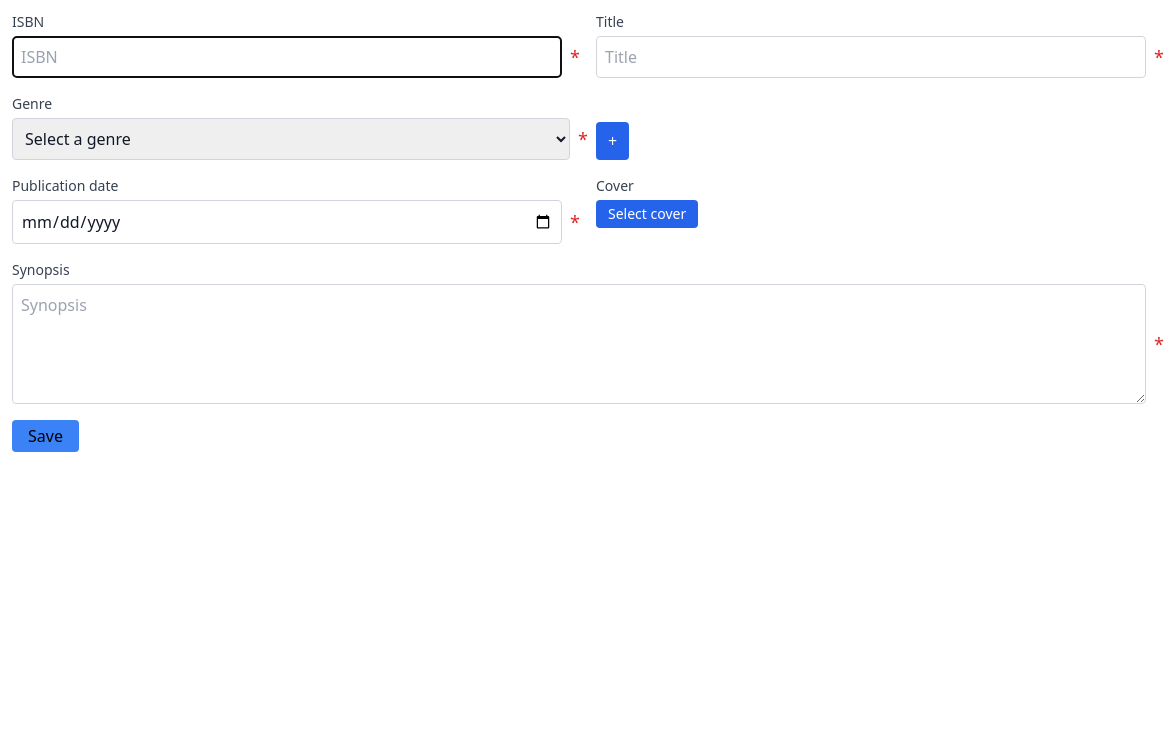
Test: BookForm › should clear the form fields after successful submission
# Fill form
In the field with placeholder "ISBN": (287, 57) x1=12 y1=36 x2=562 y2=78, type "1234567890"
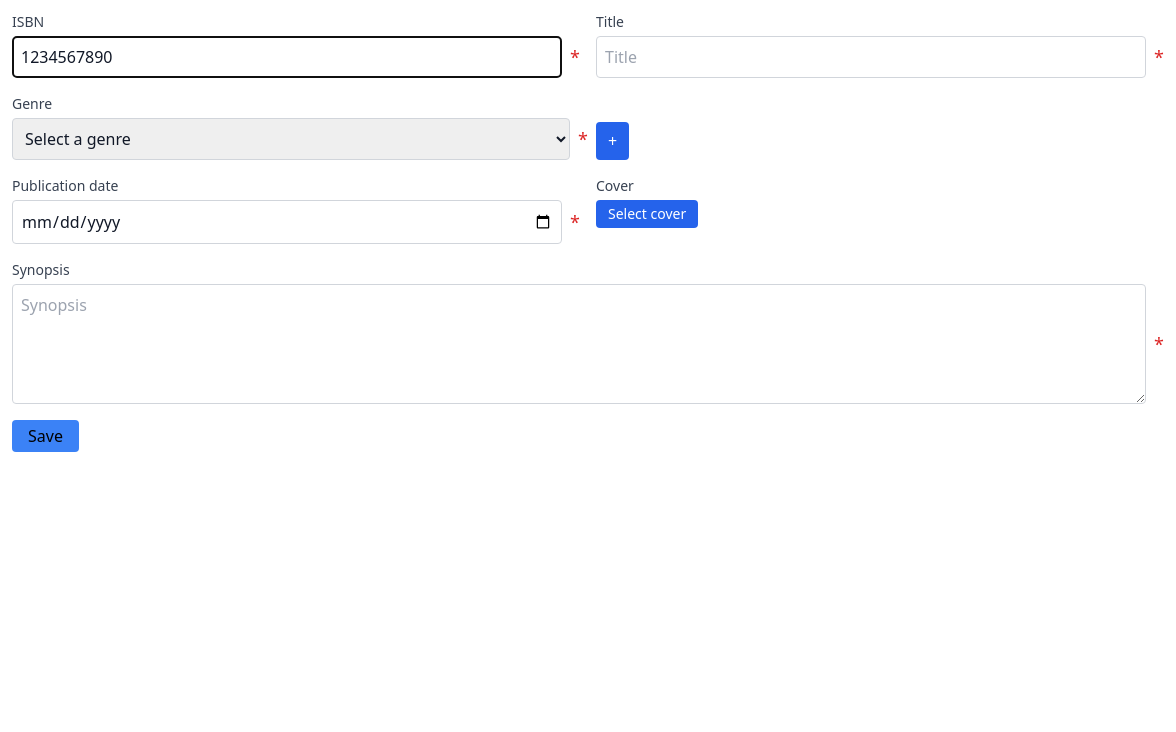
In the field with placeholder "Title": (871, 57) x1=596 y1=36 x2=1146 y2=78, type "Test Book"
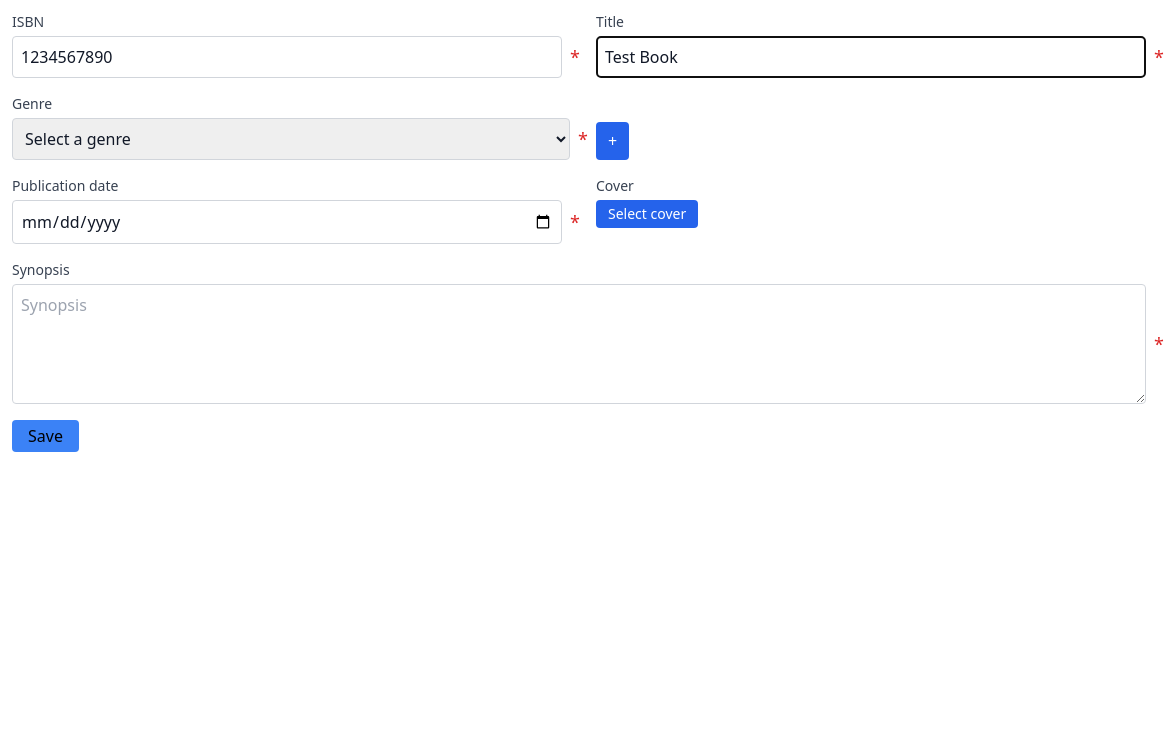
Select "Fiction" in the dropdown: (291, 139) x1=12 y1=118 x2=570 y2=160
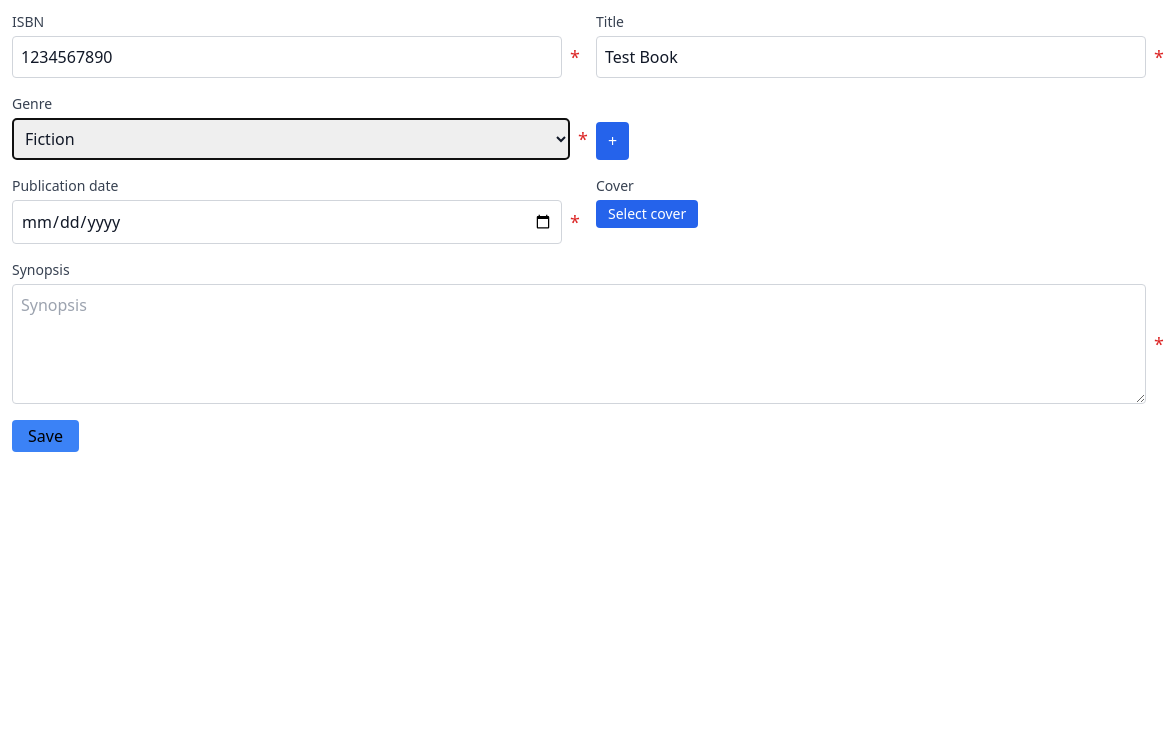
In the date field labelled "Publication date": (287, 222) x1=12 y1=200 x2=562 y2=244, type "2023-01-01"
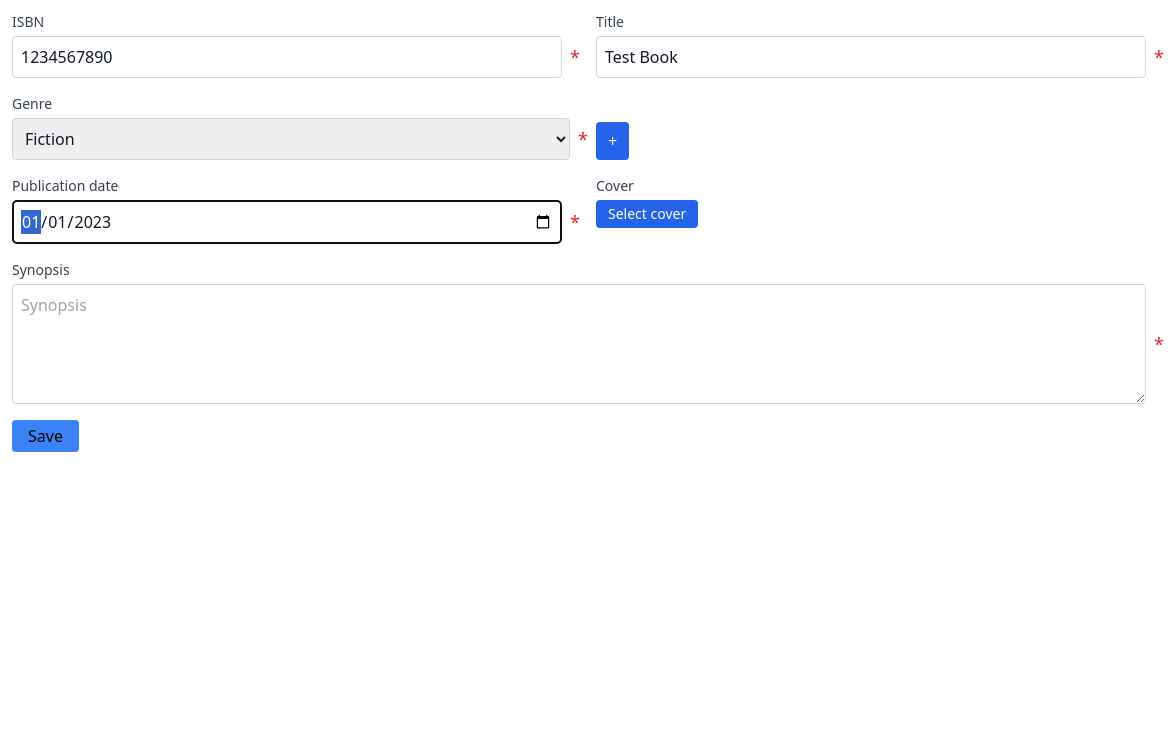
In the text box with placeholder "Synopsis": (579, 344) x1=12 y1=284 x2=1146 y2=404, type "A successful test."
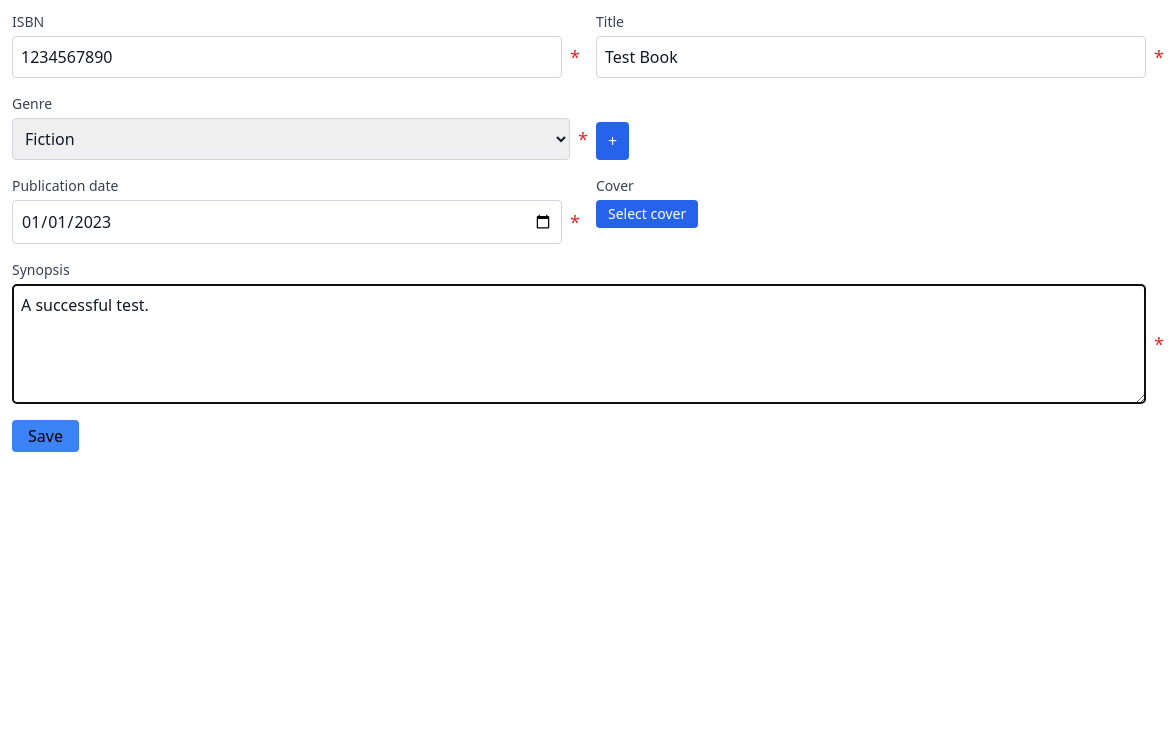
# Submit form
Click the button "Save": (45, 436) x1=12 y1=420 x2=79 y2=452
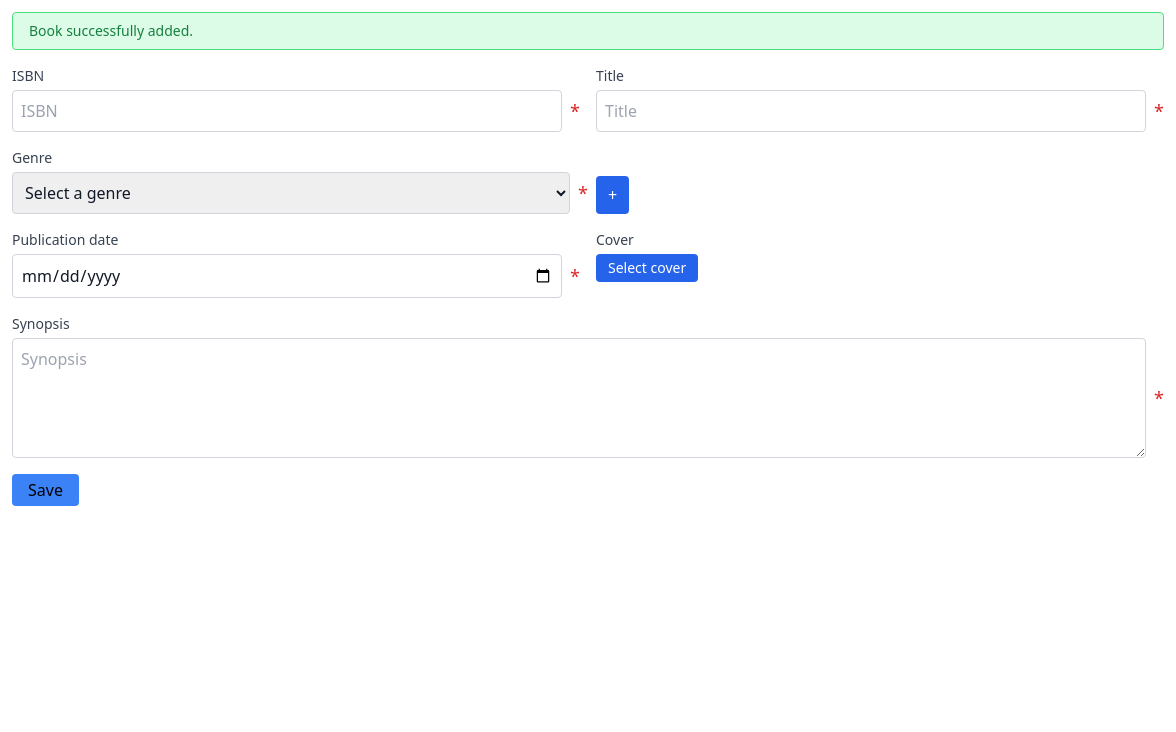
Check: the text "Book successfully added." is shown, box x1=12 y1=12 x2=1164 y2=50
Check: the field with placeholder "ISBN" is empty, box x1=12 y1=90 x2=562 y2=132
Check: the field with placeholder "Title" is empty, box x1=596 y1=90 x2=1146 y2=132
